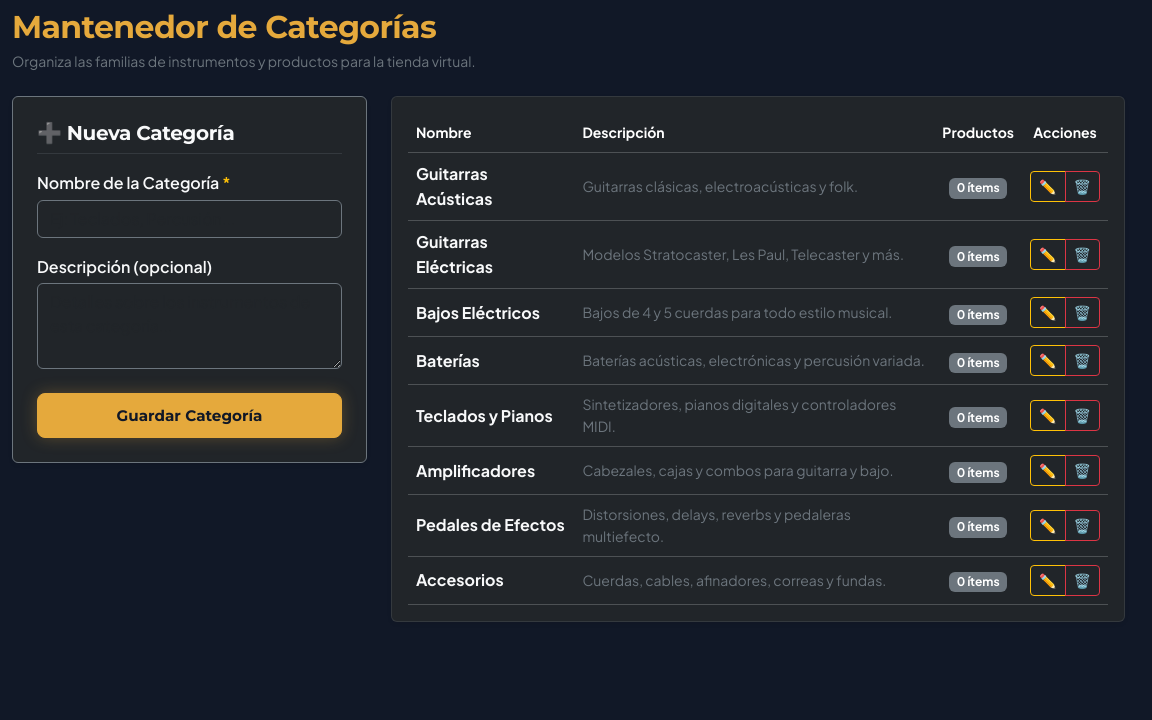
Test case: Pruebas unitarias en AdminCategorias › Gestión de estado y eventos: Permite agregar una nueva categoría y la muestra en la tabla
The image size is (1152, 720).
Type "Instrumentos de Viento" into the field with placeholder "Ej: Teclados, Percusión..." at {"x": 190, "y": 219}, box [37,200,342,238]
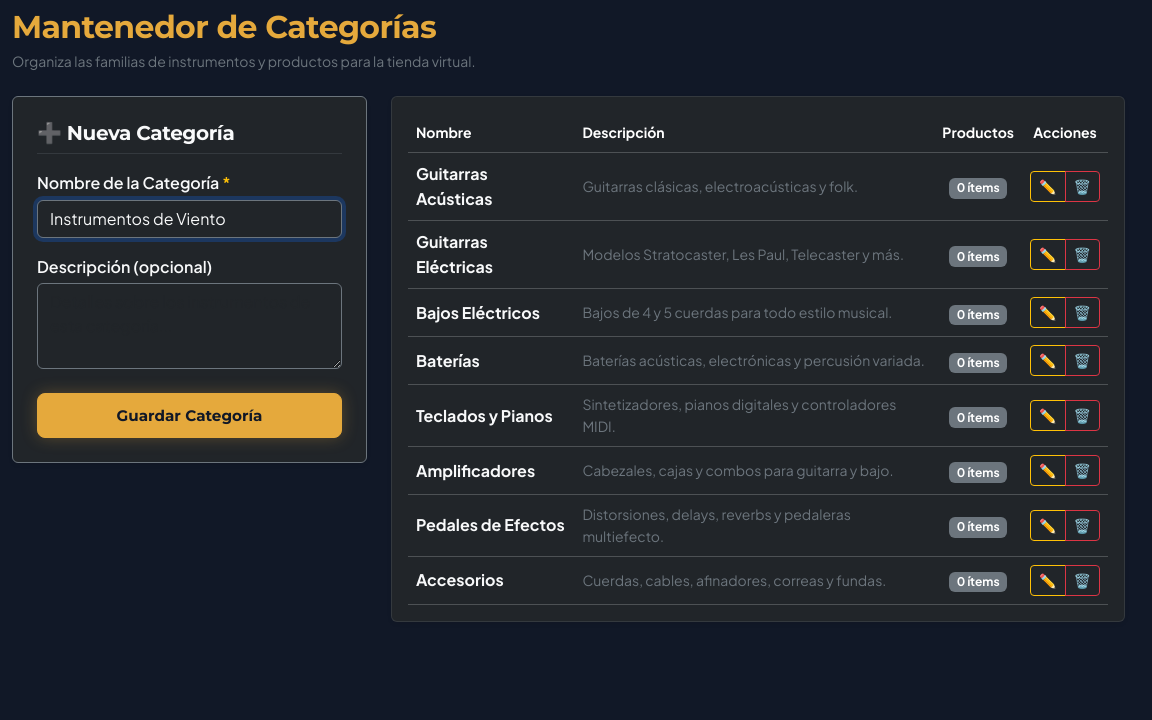
Click the button "Guardar Categoría" at {"x": 190, "y": 416}, box [37,394,342,438]
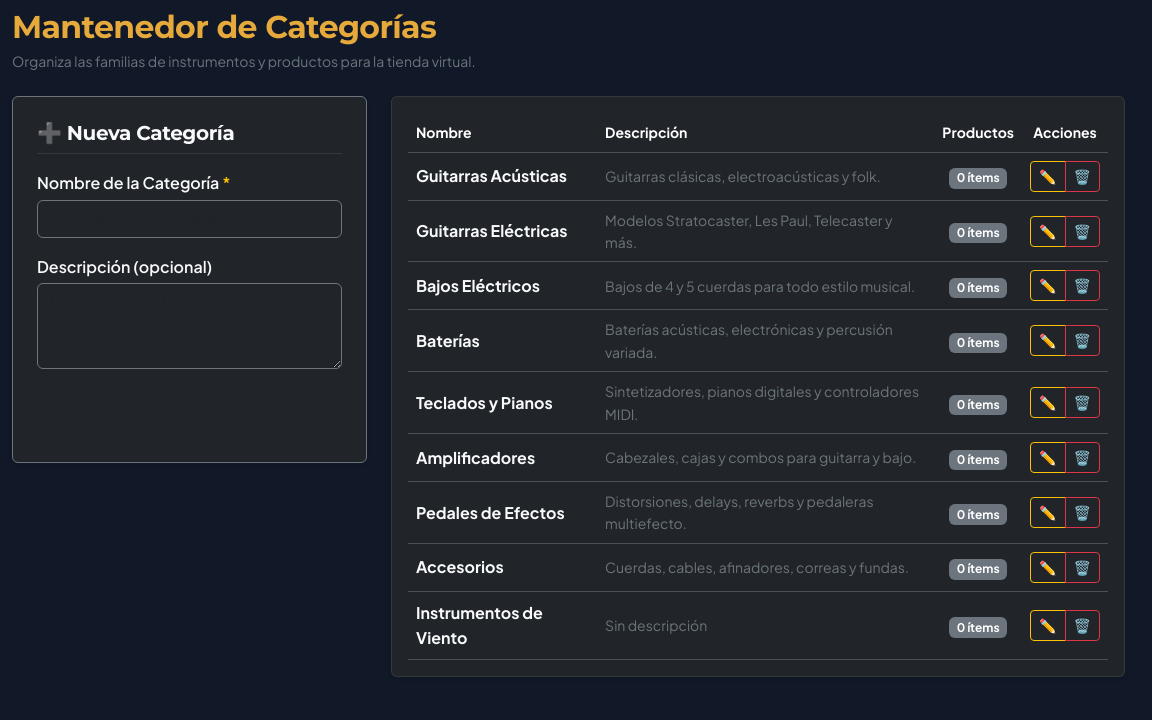
Result: the text "Instrumentos de Viento" is shown at [416,602,543,648]
